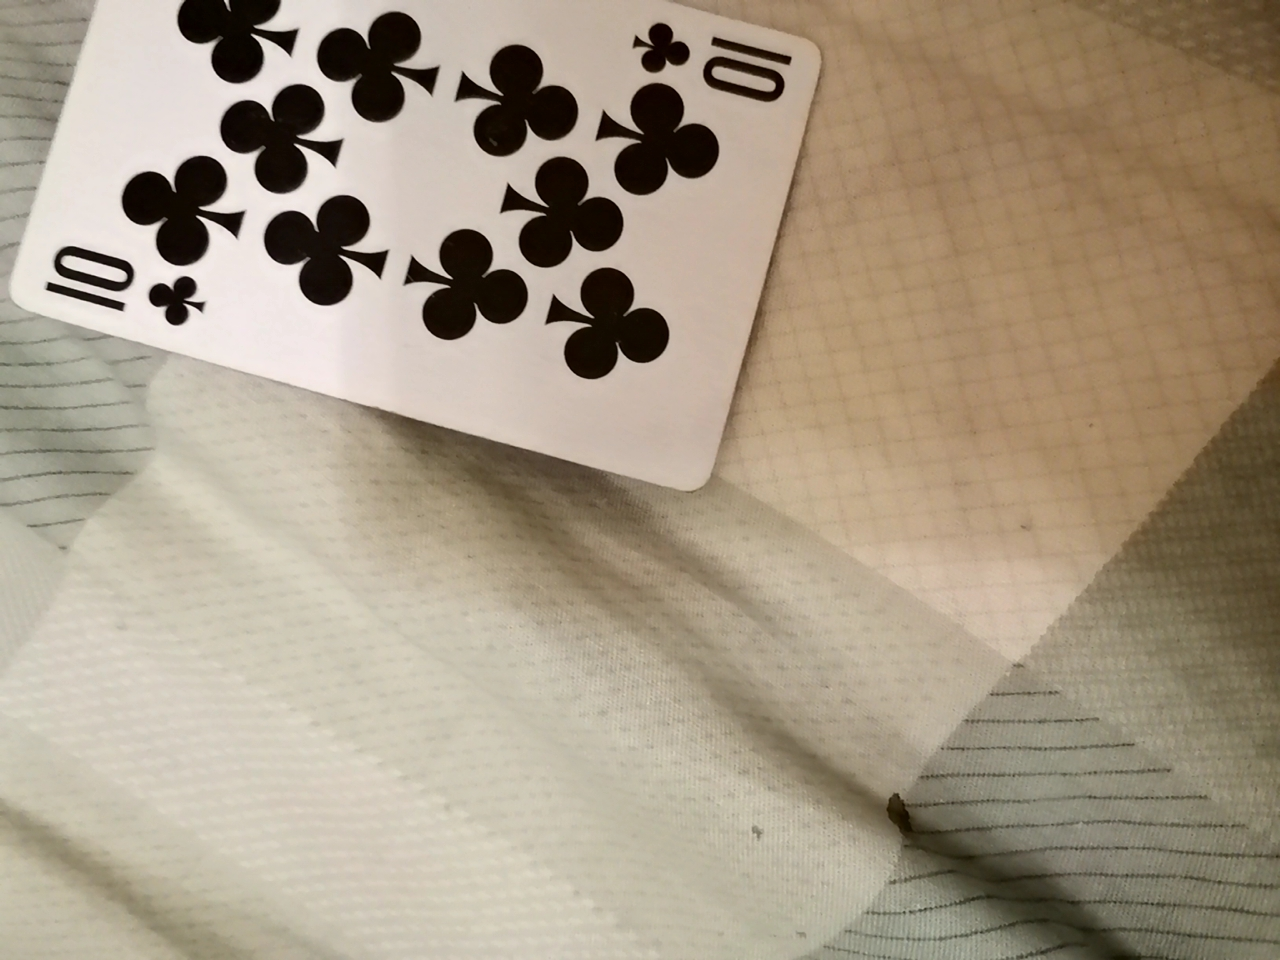mh 10: (13, 2, 839, 495)
